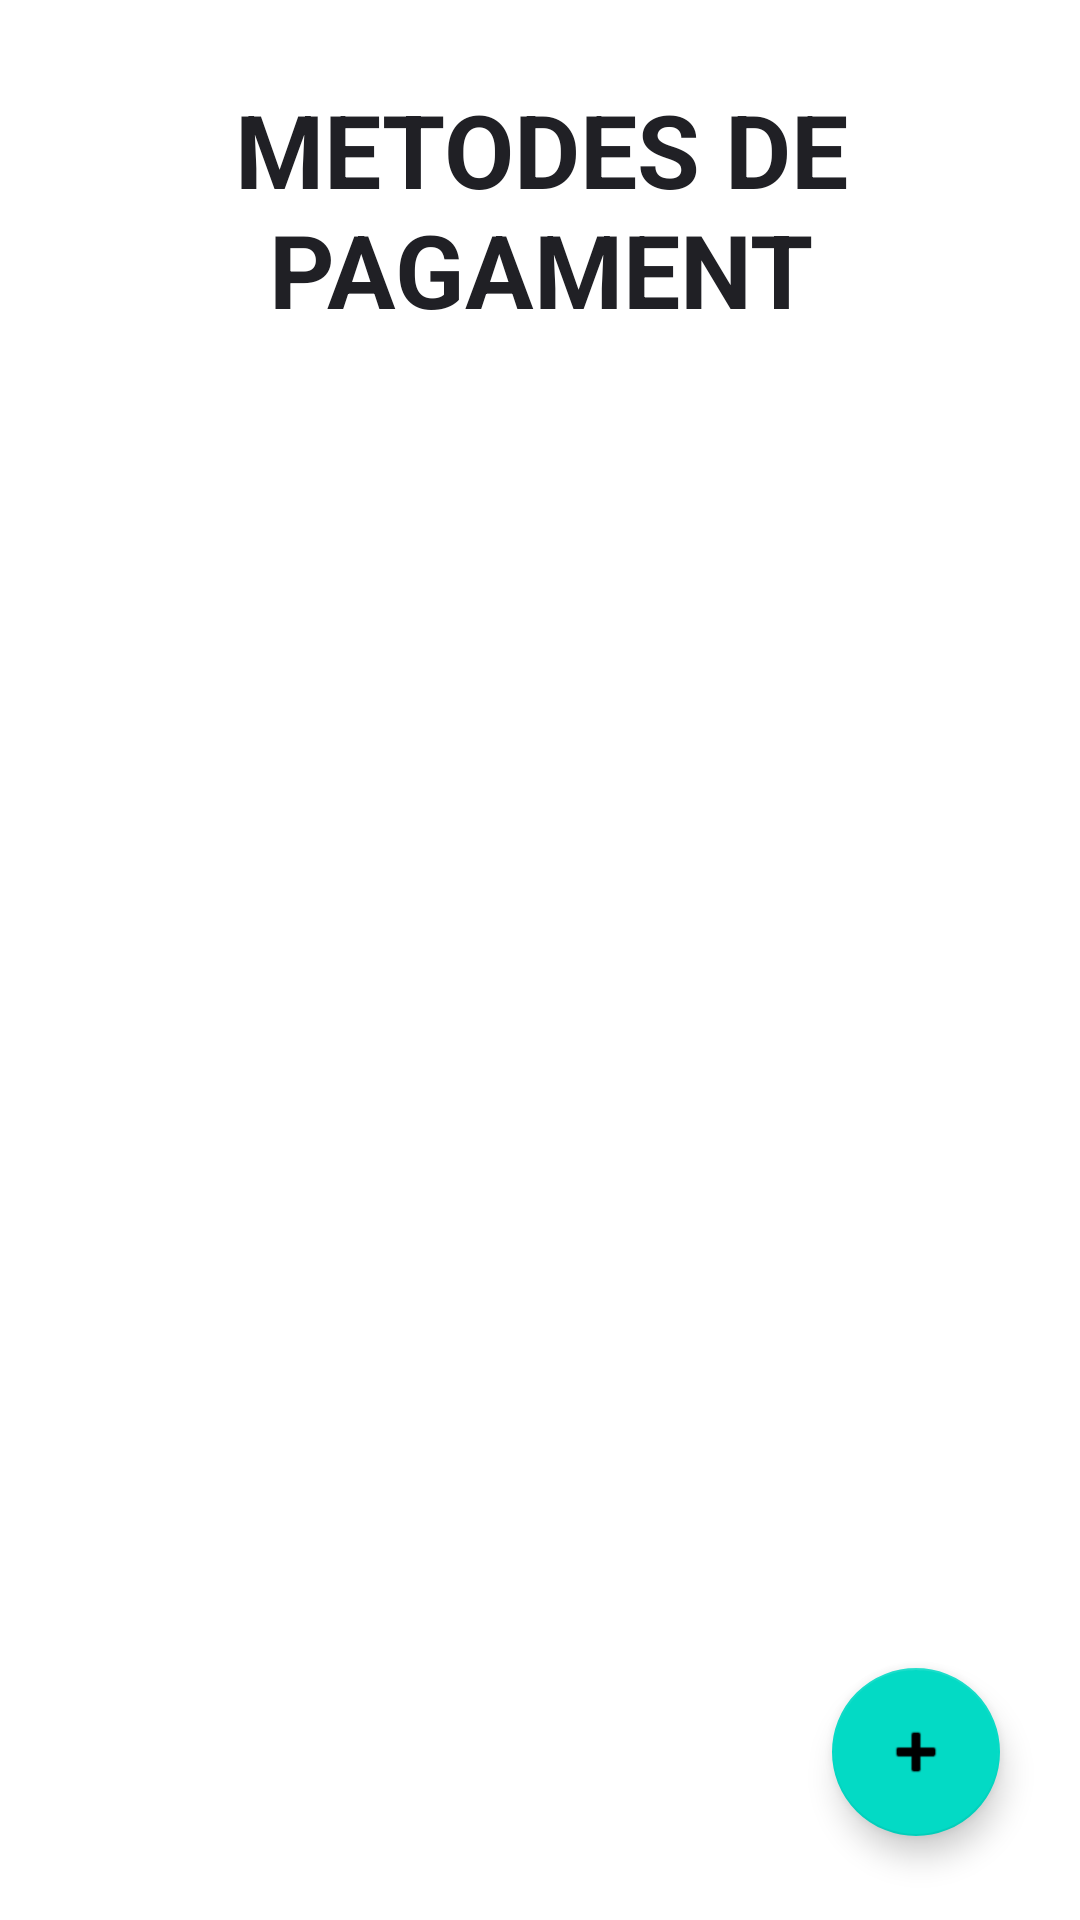

Icon bounding boxes for this 1080*1920 phone screenshot, format (x1, y1, x2, y2):
add: (832, 1668, 1000, 1836)
